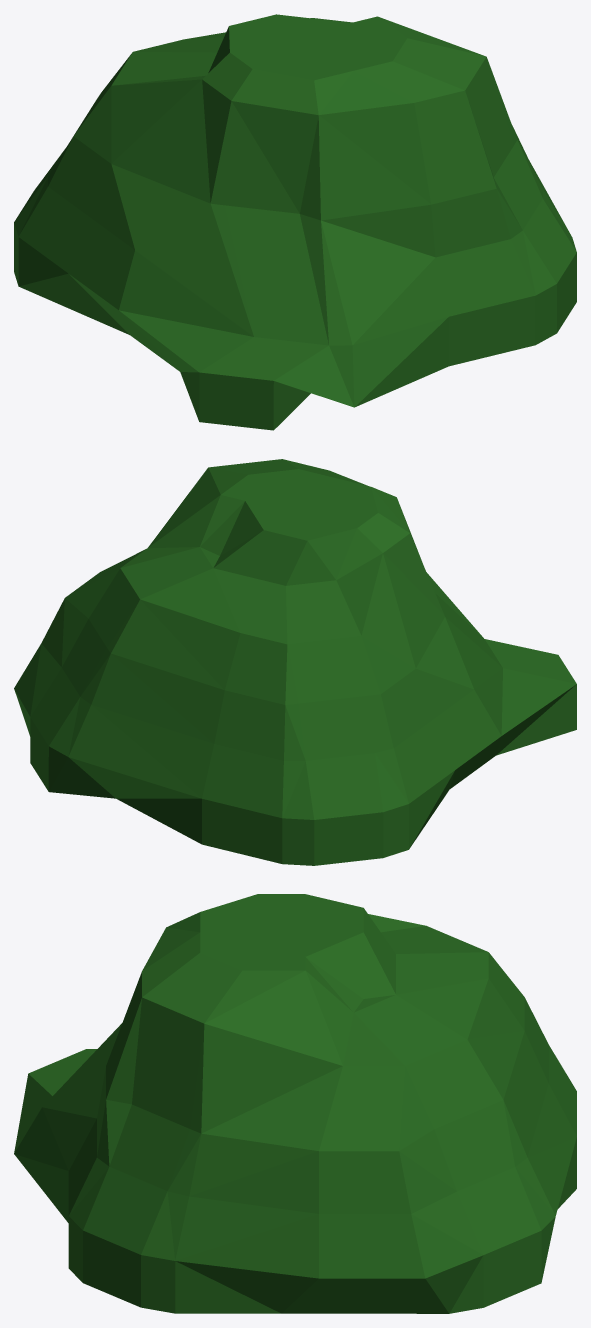
File: Bush5.fbx
3 renders of one model, top to bottom at view 1: azimuth 30°, elevation 25°; view 2: azimuth 150°, elevation 25°; view 3: azimuth 270°, elevation 25°, orthographic. The views are drawn at different scales.
Visible parts, largest first — view 1: Bush5; view 2: Bush5; view 3: Bush5.
Boxes of the visible parts, <box> form: Bush5: <box>14,14,576,430</box>; Bush5: <box>14,459,576,865</box>; Bush5: <box>14,894,576,1313</box>.
Bounding box in the file's own units: 846 × 470 × 865.
